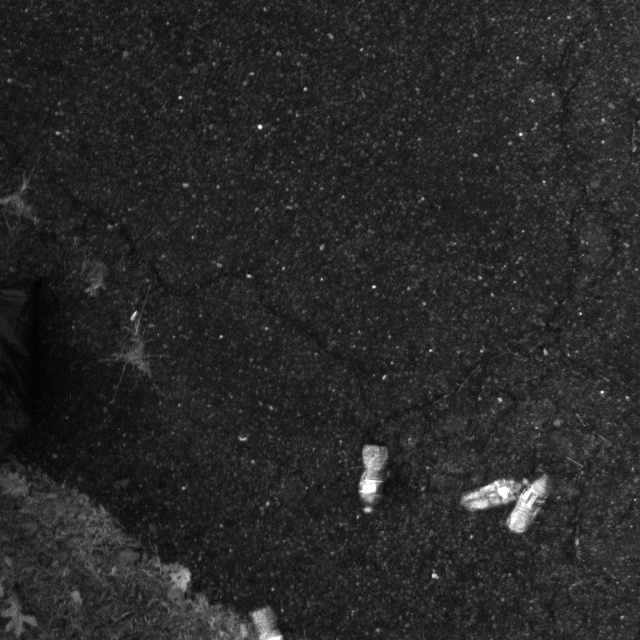bottle: (348, 440, 399, 519), (456, 466, 531, 512), (505, 473, 557, 538)
